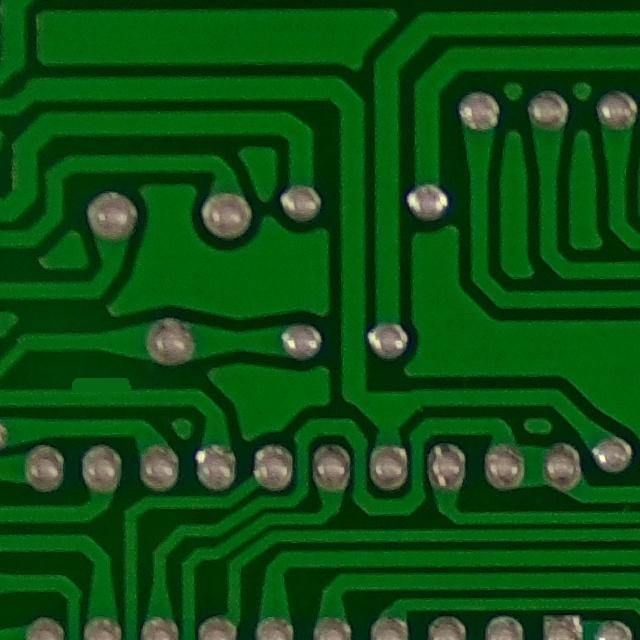spur: (52, 362, 152, 404)
